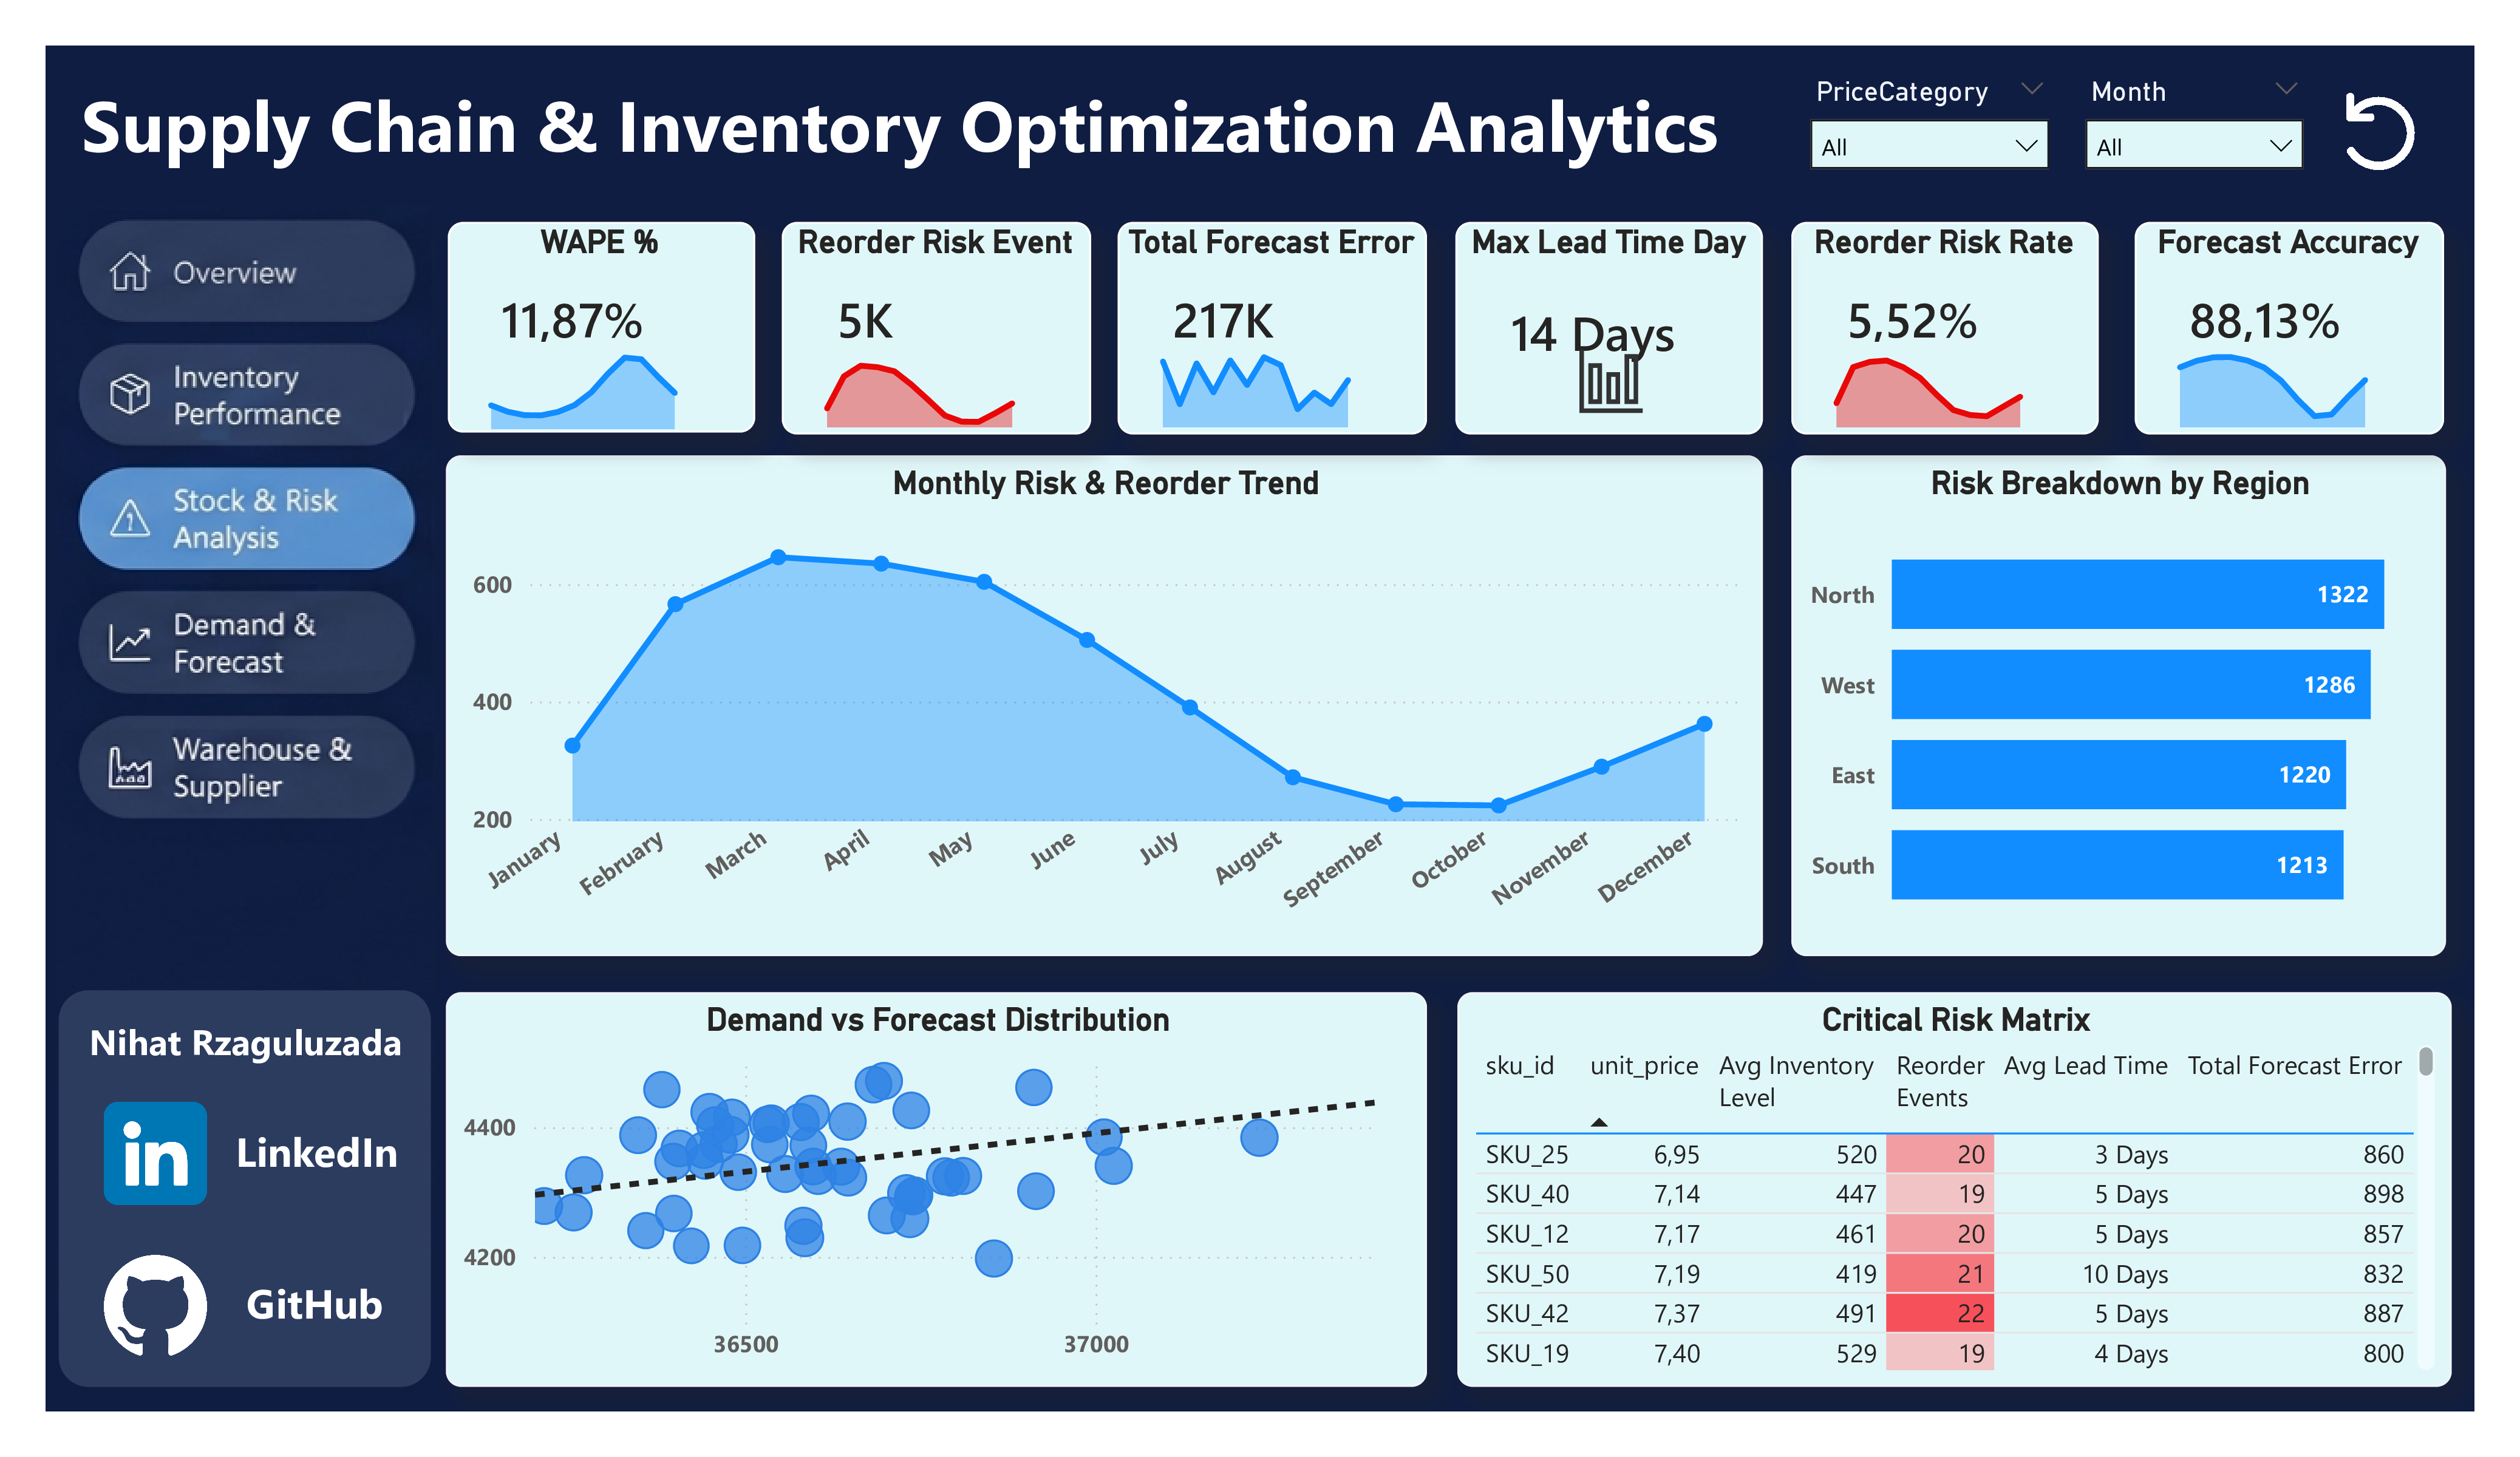

The page's visual inventory and layout, read from the dashboard file:
{"tool":"powerbi","page":{"name":"Stock & Risk Analysis","canvas":[1280,720],"ordinal":2},"visuals":[{"type":"areaChart","title":"Monthly Risk & Reorder Trend","fields":{"Category":["dim_date.month_name"],"Y":["Sum(fact_inventory_daily.below_reorder_flag)"]},"box":[211.5,216.3,693.6,263.4],"z":0},{"type":"barChart","title":"Risk Breakdown by Region","fields":{"Category":["fact_inventory_daily.region"],"Y":["Sum(fact_inventory_daily.below_reorder_flag)"]},"box":[919.5,216.3,345.6,263.4],"z":1000},{"type":"scatterChart","title":"Demand vs Forecast Distribution","fields":{"X":["_Measures.Total Units Sold"],"Category":["fact_inventory_daily.sku_id"],"Y":["_Measures.Total Forecast Error"],"Size":["_Measures.Reorder Risk Events"]},"box":[210.9,498.9,516.8,207.8],"z":2000},{"type":"lineChart","fields":{"Y":["_Measures.Total Profit"],"Category":["dim_date.month"]},"box":[391.5,136.5,161.9,65.2],"z":3000},{"type":"shape","box":[211.6,92.9,162.1,111.5],"z":4000},{"type":"cardVisual","title":"WAPE %","fields":{"Data":["_Measures.WAPE %"]},"box":[210.9,92.8,162.4,81.2],"z":5000},{"type":"shape","box":[388.1,92.8,162.4,111.8],"z":7000},{"type":"shape","box":[565.3,92.8,162.4,111.8],"z":8000},{"type":"shape","box":[919.7,92.8,162.4,111.8],"z":9000},{"type":"shape","box":[742.5,92.8,162.4,111.8],"z":10000},{"type":"cardVisual","title":"Reorder Risk Event","fields":{"Data":["_Measures.Reorder Risk Events"]},"box":[387.9,93,161.9,81],"z":11000},{"type":"cardVisual","title":"Total Forecast Error","fields":{"Data":["_Measures.Total Forecast Error"]},"box":[565.5,93,161.9,81],"z":14000},{"type":"cardVisual","title":"Max Lead Time Day","fields":{"Data":["_Measures.Max Lead Time Days"]},"box":[743.1,93,161.9,94.2],"z":15000},{"type":"cardVisual","title":"Reorder Risk Rate ","fields":{"Data":["_Measures.Reorder Risk Rate %"]},"box":[919.5,93,161.9,81],"z":17000},{"type":"tableEx","title":"Critical Risk Matrix","fields":{"Values":["fact_inventory_daily.sku_id","fact_inventory_daily.unit_price","_Measures.Average Inventory Level","_Measures.Reorder Events","_Measures.Avg Lead Time","_Measures.Total Forecast Error"]},"box":[743.6,498.9,524.2,207.8],"z":19000},{"type":"shape","box":[1101.3,93.1,162.4,111.8],"z":20000},{"type":"cardVisual","title":"Forecast Accuracy ","fields":{"Data":["_Measures.Forecast Accuracy %"]},"box":[1101.1,93.4,161.9,81],"z":21000},{"type":"image","box":[6.3,84.4,198.3,581.1],"z":23000},{"type":"shape","box":[16.9,160.3,178.2,51.7],"z":24000},{"type":"shape","box":[16.9,224,178.2,53.8],"z":25000},{"type":"shape","box":[16.9,289,178.2,53.8],"z":26000},{"type":"shape","box":[17.9,352,178.2,53.8],"z":27000},{"type":"shape","box":[13.7,92.8,181.4,55.9],"z":28000},{"type":"textbox","box":[13.7,10.5,891.2,82.3],"z":29000},{"type":"shape","box":[7.2,497.8,195.7,209],"z":30000},{"type":"shape","box":[66.5,685.1,23,23],"z":31000},{"type":"image","box":[27.8,636.8,60.4,54.4],"z":32000},{"type":"image","box":[26.6,557,61.6,54.4],"z":33000},{"type":"textbox","box":[18.1,507.5,177.6,41.1],"z":34000},{"type":"textbox","box":[95.5,563.1,105.1,42.3],"z":35000},{"type":"textbox","box":[101.5,642.8,95.5,42.3],"z":36000},{"type":"lineChart","fields":{"Category":["dim_date.month"],"Y":["_Measures.WAPE %"]},"box":[210.9,145.5,162.4,61.2],"z":39500},{"type":"lineChart","fields":{"Category":["dim_date.month"],"Y":["_Measures.Reorder Risk Events"]},"box":[388.1,144.5,162.4,61.2],"z":40000},{"type":"lineChart","fields":{"Category":["dim_date.month"],"Y":["_Measures.Total Forecast Error"]},"box":[565.3,144.5,162.4,61.2],"z":40500},{"type":"lineChart","fields":{"Category":["dim_date.month"],"Y":["_Measures.Max Lead Time Days"]},"box":[743.6,146.6,161.4,60.1],"z":41000},{"type":"lineChart","fields":{"Category":["dim_date.month"],"Y":["_Measures.Reorder Risk Rate %"]},"box":[919.7,144.5,162.4,61.2],"z":41500},{"type":"lineChart","fields":{"Category":["dim_date.month"],"Y":["_Measures.Forecast Accuracy %"]},"box":[1101.1,144.5,162.4,61.2],"z":42000},{"type":"slicer","fields":{"Values":["dim_date.month"]},"box":[1065.3,10.5,135,70.7],"z":42001},{"type":"slicer","fields":{"Values":["fact_inventory_daily.Price Category"]},"box":[919.5,10.9,146.2,70.1],"z":42002},{"type":"image","box":[1199.2,21.1,60.1,50.6],"z":42003}]}

Visuals, with their boxes on the page's 1280x720 design canvas (x1, y1, x2, y2). These are canvas units, not pixel positions in the 2520x1457 screenshot, which may show the page scaled, cropped or inside an application window:
"Monthly Risk & Reorder Trend" areaChart: Rect(212, 216, 905, 480)
"Risk Breakdown by Region" barChart: Rect(920, 216, 1265, 480)
"Demand vs Forecast Distribution" scatterChart: Rect(211, 499, 728, 707)
lineChart - _Measures.Total Profit x dim_date.month: Rect(392, 136, 553, 202)
shape: Rect(212, 93, 374, 204)
"WAPE %" cardVisual: Rect(211, 93, 373, 174)
shape: Rect(388, 93, 550, 205)
shape: Rect(565, 93, 728, 205)
shape: Rect(920, 93, 1082, 205)
shape: Rect(742, 93, 905, 205)
"Reorder Risk Event" cardVisual: Rect(388, 93, 550, 174)
"Total Forecast Error" cardVisual: Rect(566, 93, 727, 174)
"Max Lead Time Day" cardVisual: Rect(743, 93, 905, 187)
"Reorder Risk Rate " cardVisual: Rect(920, 93, 1081, 174)
"Critical Risk Matrix" tableEx: Rect(744, 499, 1268, 707)
shape: Rect(1101, 93, 1264, 205)
"Forecast Accuracy " cardVisual: Rect(1101, 93, 1263, 174)
image: Rect(6, 84, 205, 666)
shape: Rect(17, 160, 195, 212)
shape: Rect(17, 224, 195, 278)
shape: Rect(17, 289, 195, 343)
shape: Rect(18, 352, 196, 406)
shape: Rect(14, 93, 195, 149)
textbox: Rect(14, 10, 905, 93)
shape: Rect(7, 498, 203, 707)
shape: Rect(66, 685, 90, 708)
image: Rect(28, 637, 88, 691)
image: Rect(27, 557, 88, 611)
textbox: Rect(18, 508, 196, 549)
textbox: Rect(96, 563, 201, 605)
textbox: Rect(102, 643, 197, 685)
lineChart - dim_date.month x _Measures.WAPE %: Rect(211, 146, 373, 207)
lineChart - dim_date.month x _Measures.Reorder Risk Events: Rect(388, 144, 550, 206)
lineChart - dim_date.month x _Measures.Total Forecast Error: Rect(565, 144, 728, 206)
lineChart - dim_date.month x _Measures.Max Lead Time Days: Rect(744, 147, 905, 207)
lineChart - dim_date.month x _Measures.Reorder Risk Rate %: Rect(920, 144, 1082, 206)
lineChart - dim_date.month x _Measures.Forecast Accuracy %: Rect(1101, 144, 1264, 206)
slicer - dim_date.month: Rect(1065, 10, 1200, 81)
slicer - fact_inventory_daily.Price Category: Rect(920, 11, 1066, 81)
image: Rect(1199, 21, 1259, 72)
